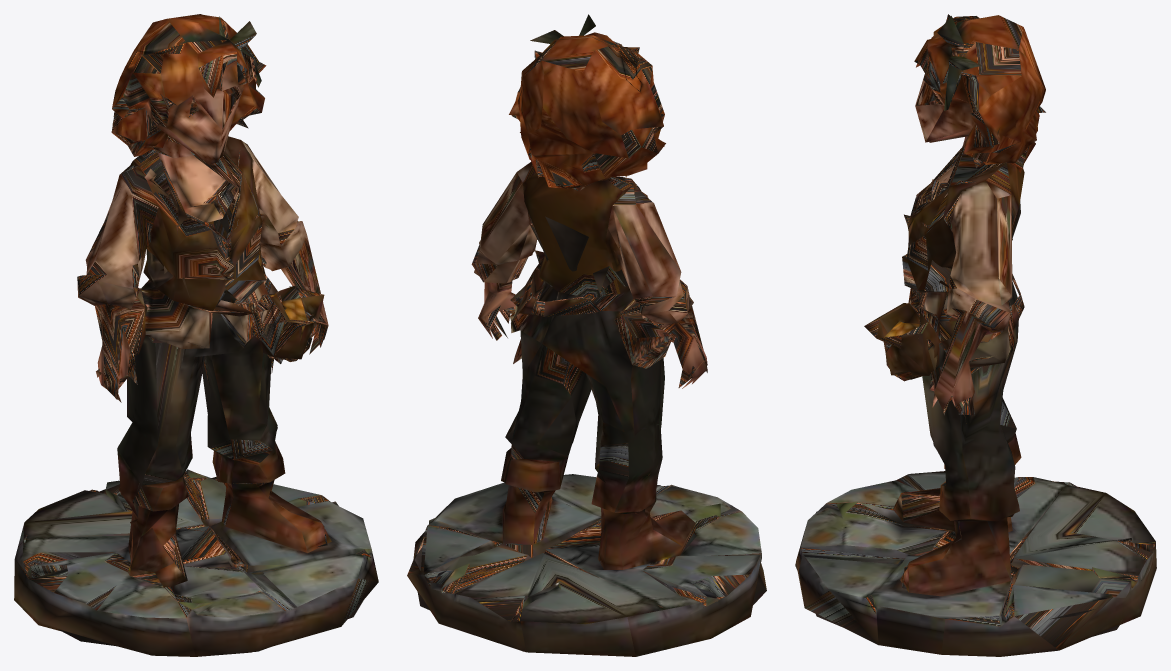
The model's file is hero-tansy-lite.glb.
3 renders of one model, left to right at view 1: azimuth 30°, elevation 25°; view 2: azimuth 150°, elevation 25°; view 3: azimuth 270°, elevation 25°, orthographic. The views are drawn at different scales.
Parts seen in each view (by area): view 1: geometry_0; view 2: geometry_0; view 3: geometry_0.
Part boxes in pixels (bbox=[...]): geometry_0: bbox=[14, 14, 378, 656]; geometry_0: bbox=[407, 14, 766, 656]; geometry_0: bbox=[795, 14, 1156, 656].
Bounding box in the file's own units: 0.476 × 0.8136 × 0.4653.
1 material, 1 textured.
